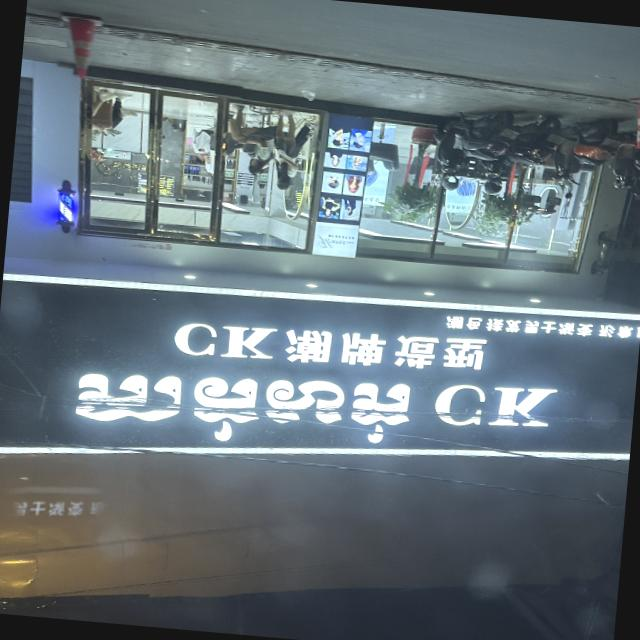Yolov11kh: (63, 349, 426, 446)
